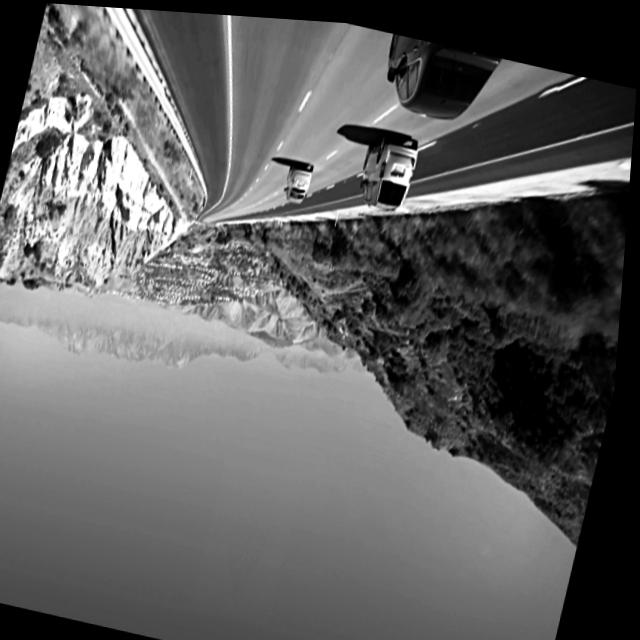cleat: (60, 7, 637, 435)
